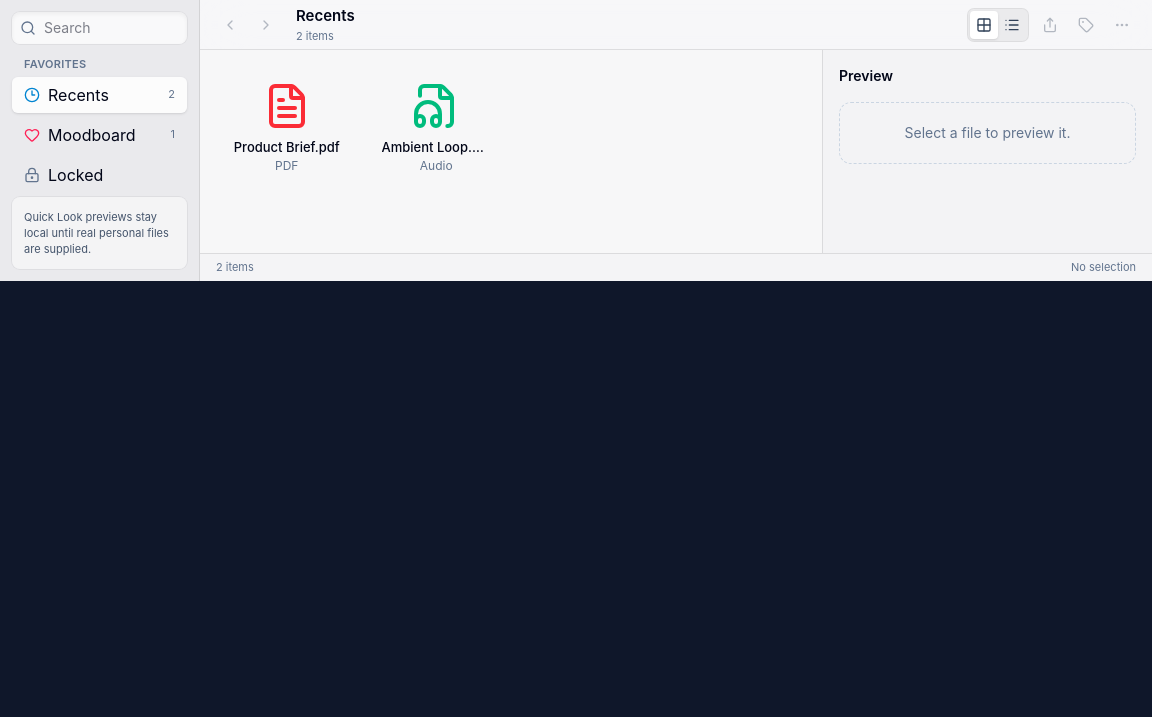
Test: FinderApp › turns selected-file toolbar actions into visible local state
Step 1. Click the button "Product Brief.pdf PDF" → (287,128), box [220,70,354,186]
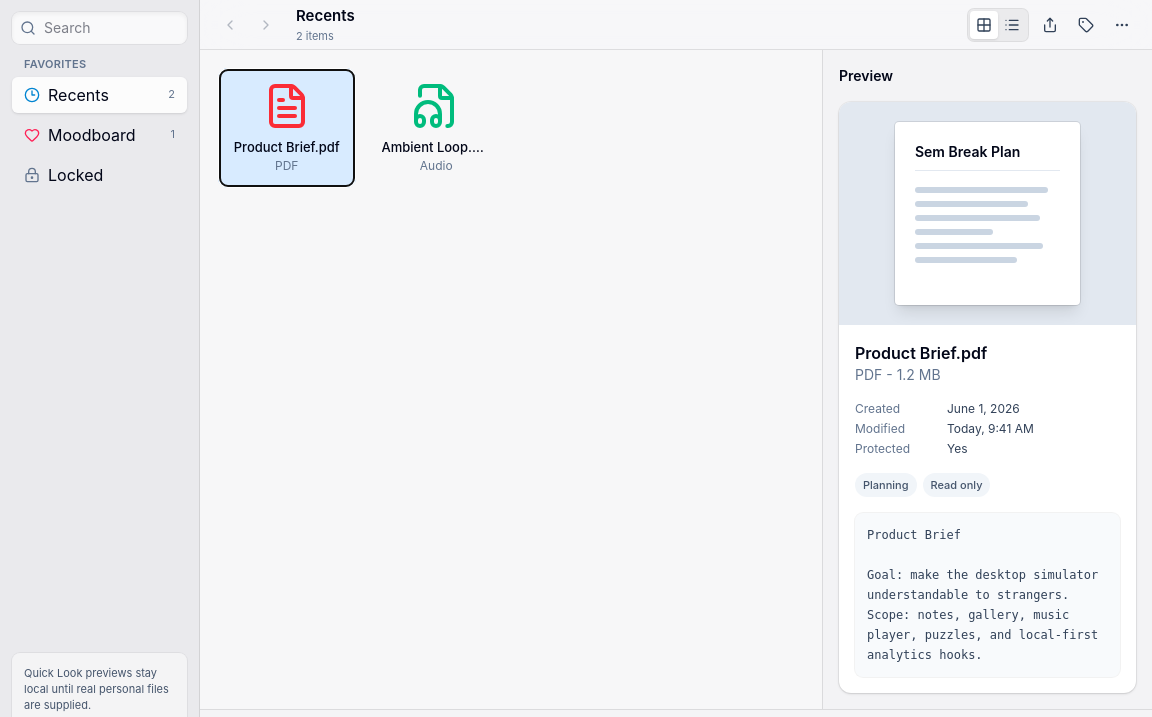
Step 2. Click the button named "Tag selected file" → (1086,24), box [1072,10,1100,38]
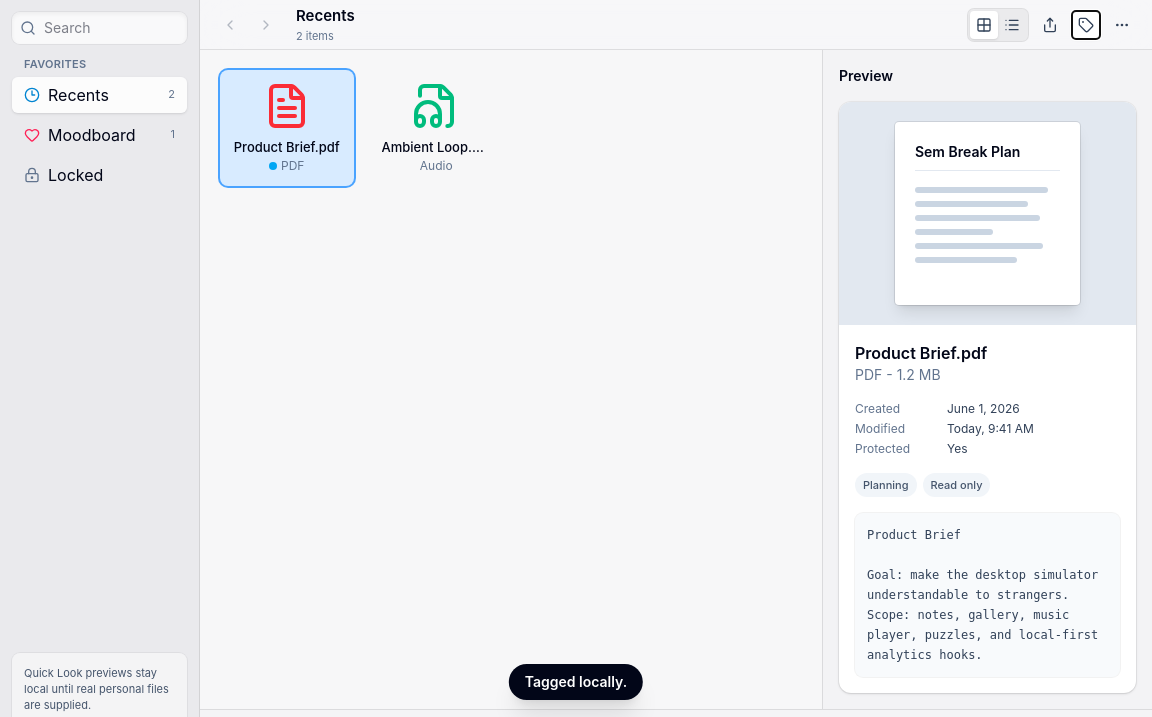
Expected: the element named "Local tag" is shown, [269,162,277,170]
Expected: the text "Tagged locally." is shown, [509,664,643,700]
Step 3. Click the button named "More actions" → (1122,24), box [1108,10,1136,38]
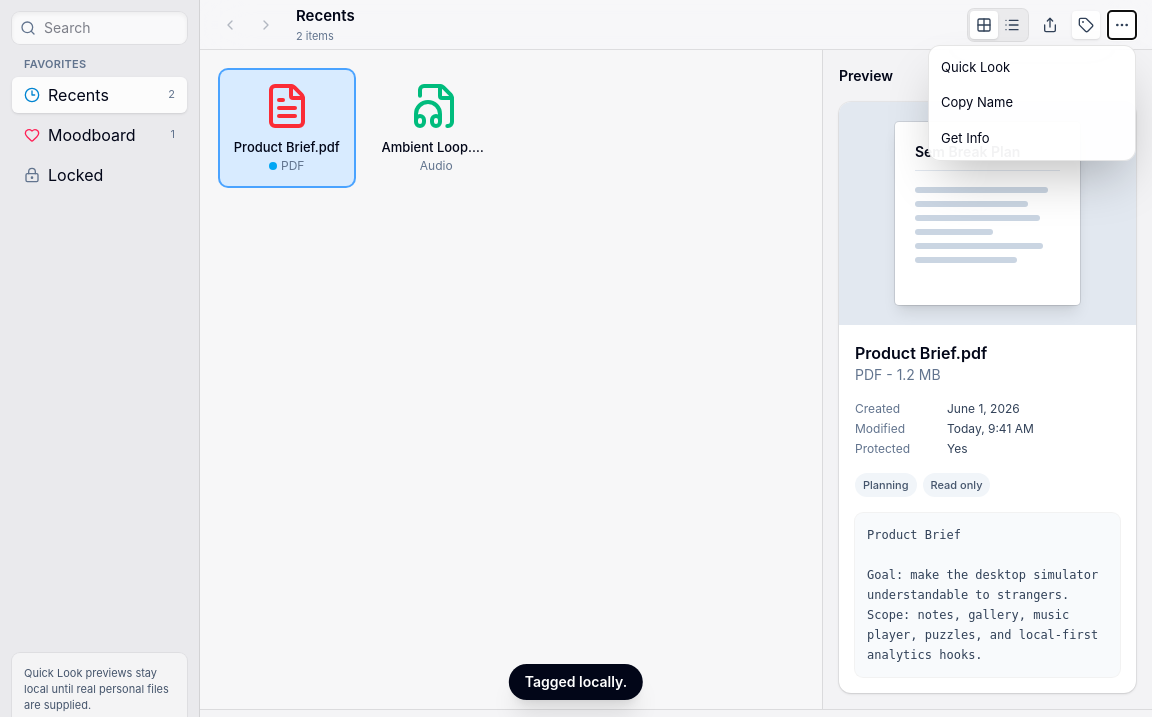
Step 4. Click the button "Quick Look" → (1032,67), box [929,50,1135,85]
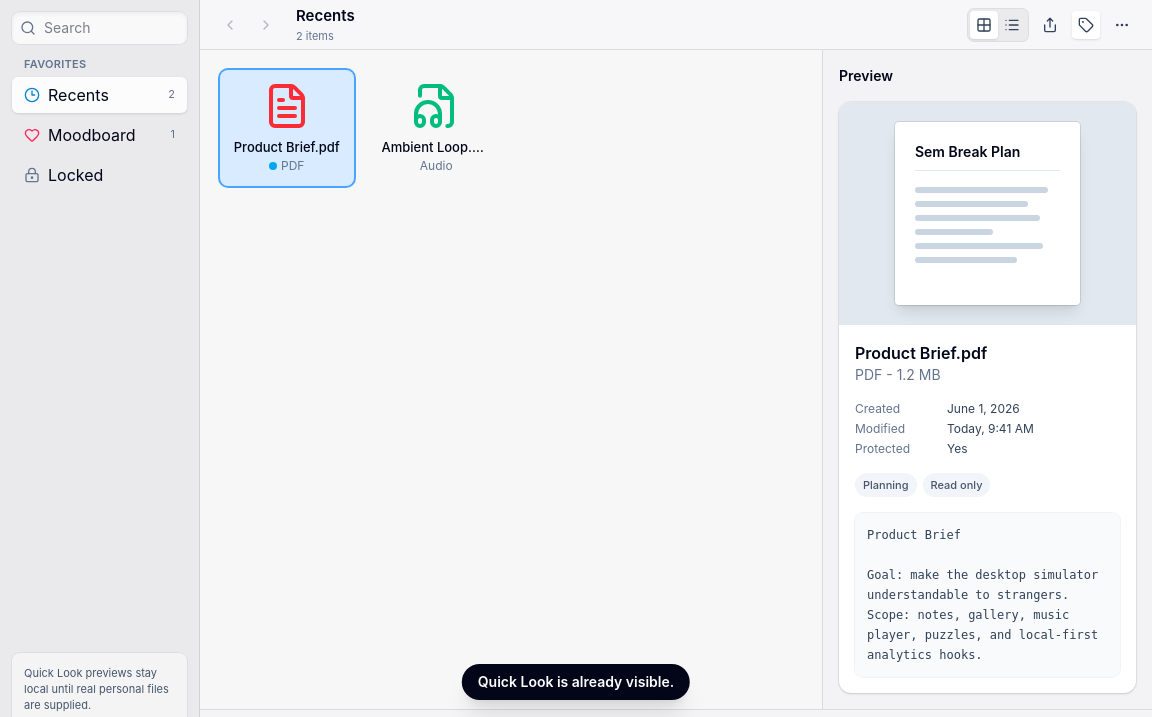
Expected: the text "Quick Look is already visible." is shown, [462,664,690,700]
